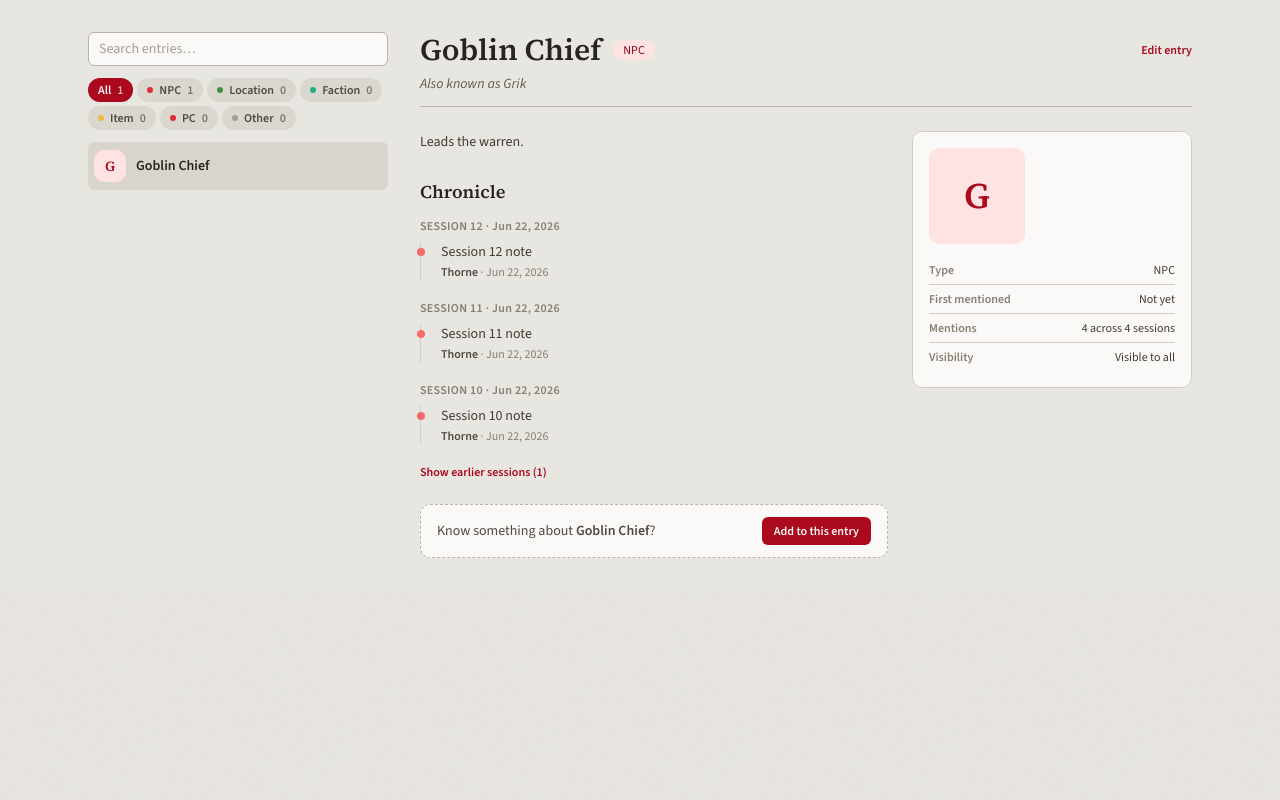
Test case: EntityDetailPage (#248) › caps the chronicle at three session groups behind an expander (#842)
Check: the text "Session 12 note" is shown, box [441,242,532,261]
Check: the text "Session 9 note" is not shown
Step 1. Click the button "Show earlier sessions (1)" → point(483, 472), box [420,464,547,480]
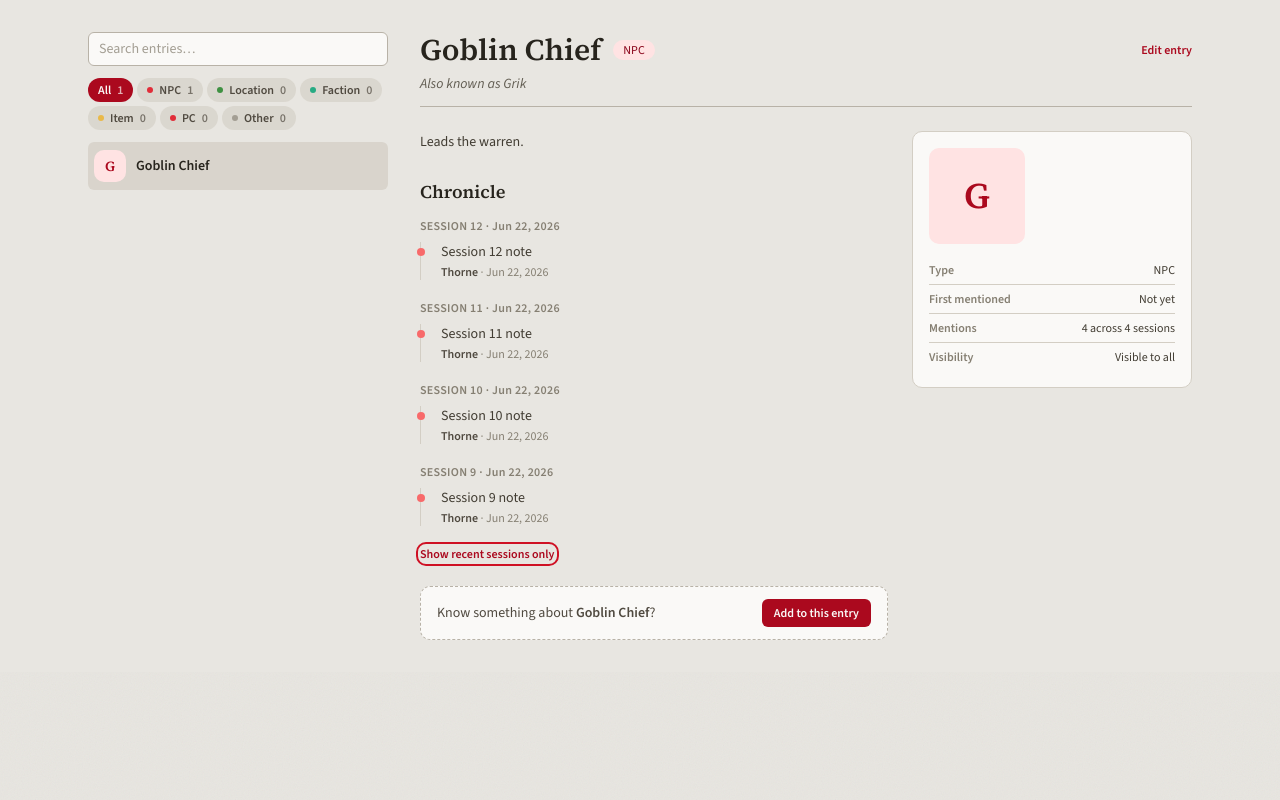
Check: the text "Session 9 note" is shown, box [441,488,525,507]
